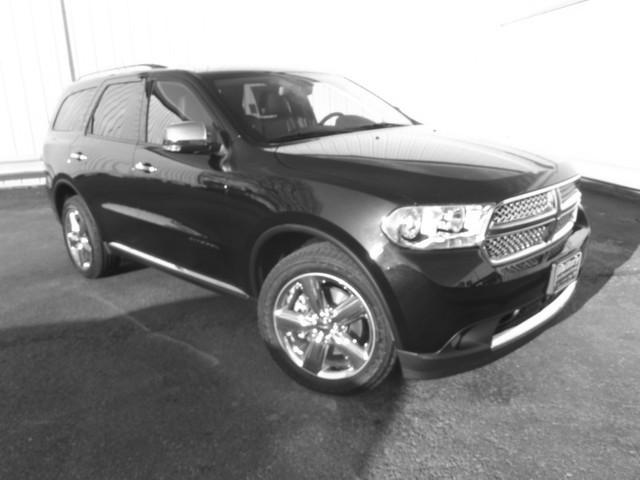car: (42, 63, 593, 397)
